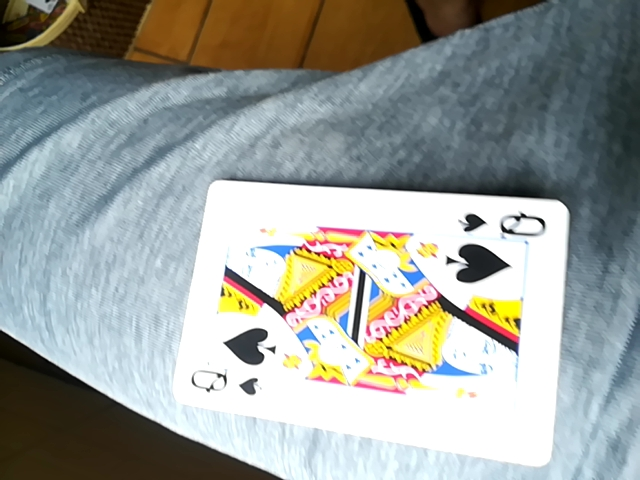ht q: (176, 173, 572, 469)
